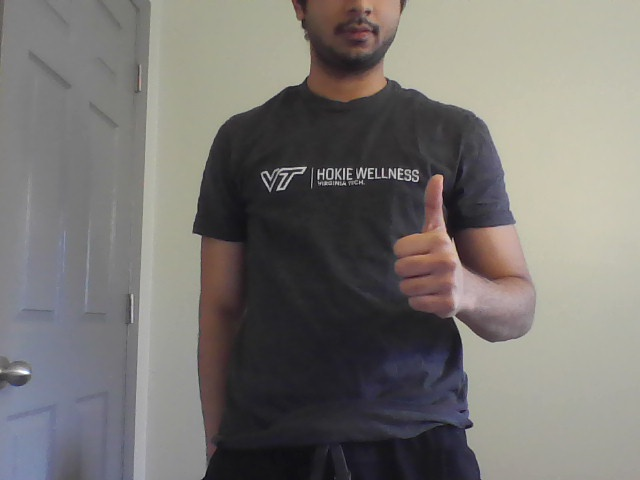confirm: (385, 170, 475, 319)
